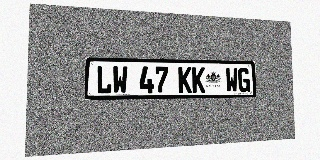4: (140, 66, 154, 93)
7: (154, 66, 169, 93)
G: (238, 68, 250, 92)
K: (178, 67, 192, 93), (192, 67, 205, 93)
L: (96, 66, 112, 94)
W: (112, 66, 128, 94), (225, 67, 238, 92)
